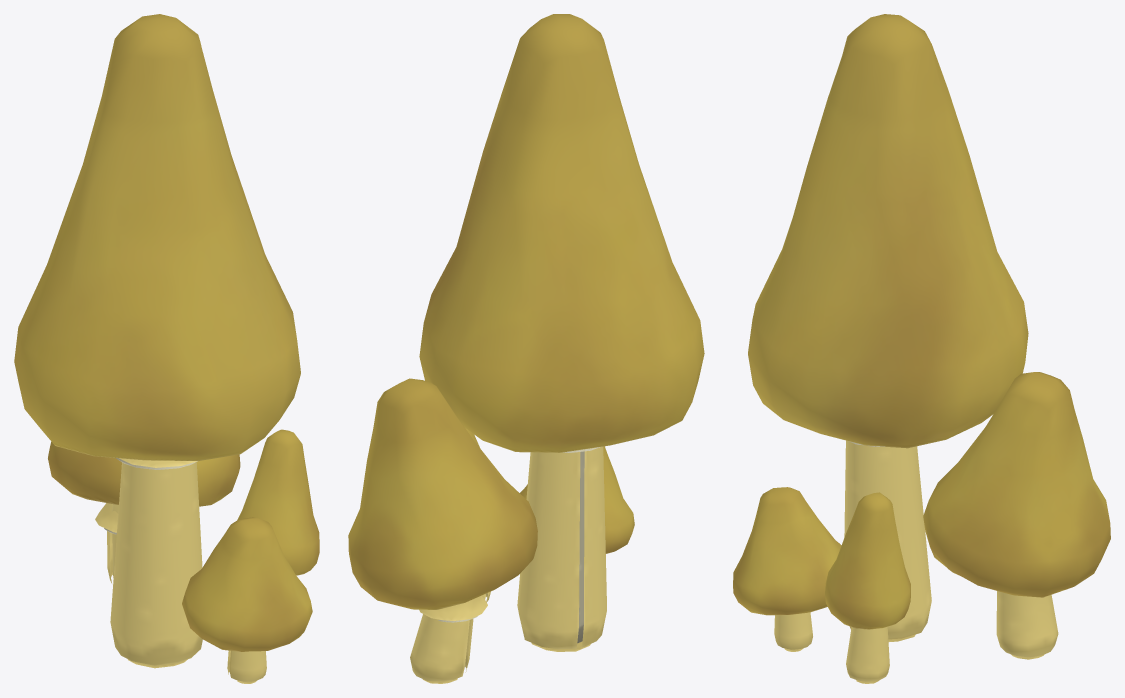
Rendered from houba_bedla_zlata_svitici.glb.
3 renders of one model, left to right at view 1: azimuth 30°, elevation 25°; view 2: azimuth 150°, elevation 25°; view 3: azimuth 270°, elevation 25°, orthographic. The views are drawn at different scales.
Visible parts, largest first — view 1: noc; view 2: noc, houba_bedla_zlata_svitici; view 3: noc.
Boxes of the visible parts, <box> form: noc: <box>14,14,319,683</box>; noc: <box>348,14,704,683</box>; houba_bedla_zlata_svitici: <box>438,447,599,643</box>; noc: <box>733,14,1110,683</box>.
Bounding box in the file's own units: 0.0738 × 0.164 × 0.0922.
2 materials, 2 textured.
